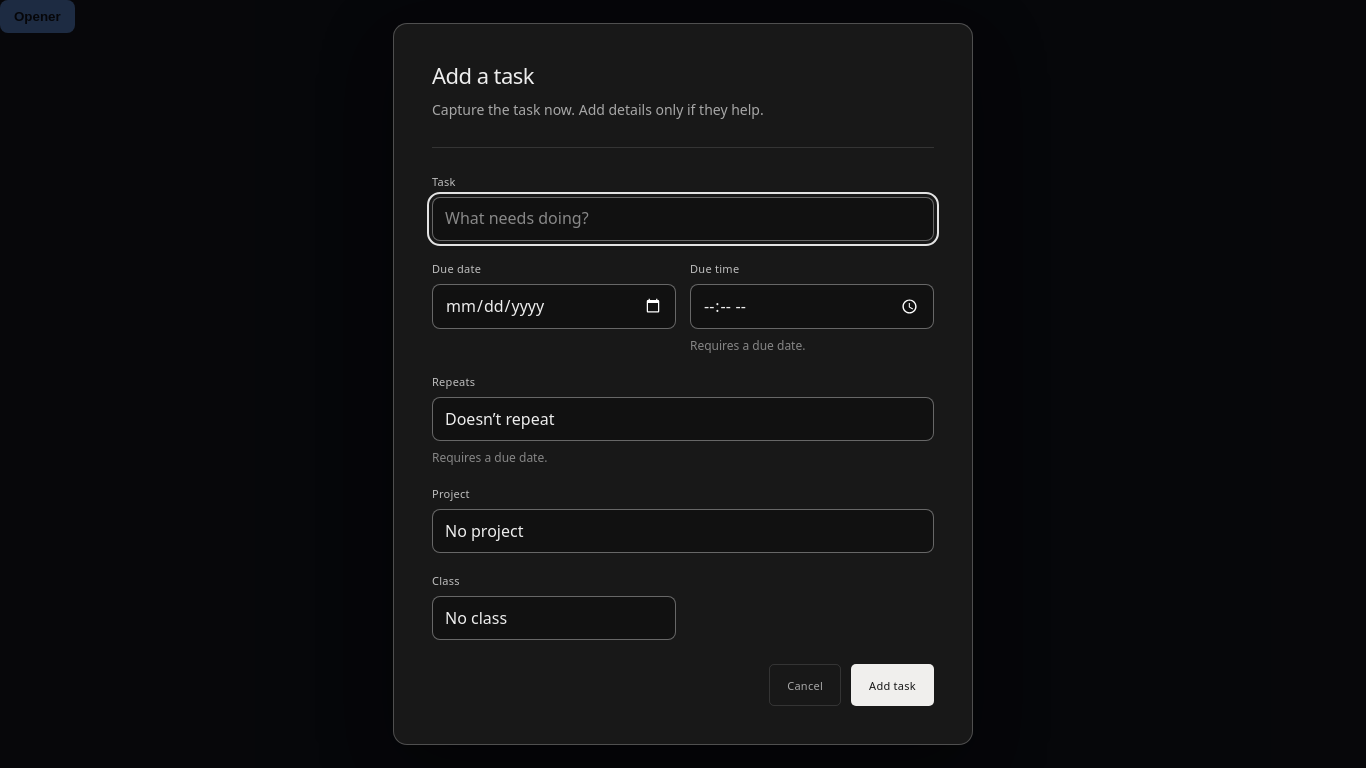
Test: TodoFormDialog repeat rule › reveals the interval and end date only once a frequency is chosen
Expected: the field labelled "Every" is not shown
Select "Weekly" in the dropdown labelled "Repeats" at (683, 419), box top-left (432, 397), bottom-right (934, 441)
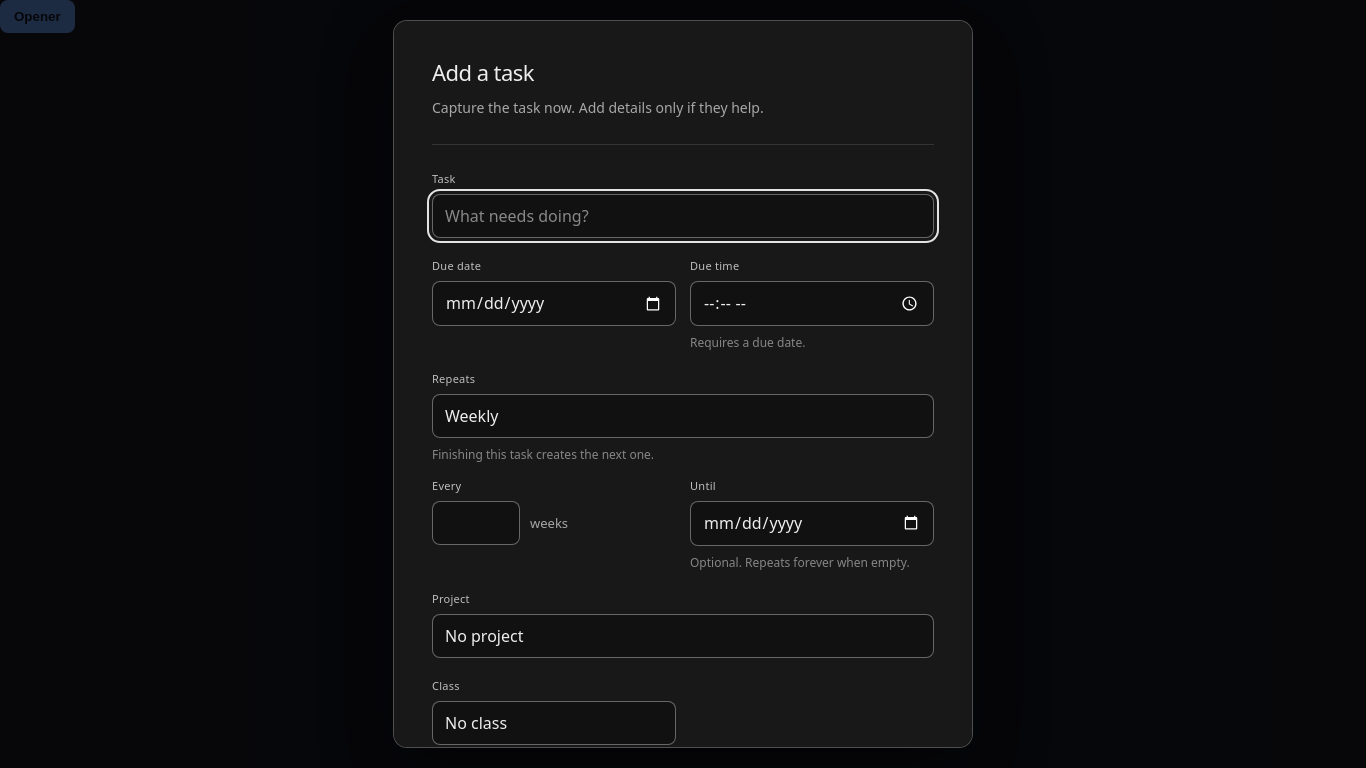
Expected: the number field labelled "Every" is shown, top-left (432, 501), bottom-right (520, 545)
Expected: the text "weeks" is shown, top-left (530, 514), bottom-right (568, 532)
Select "Monthly" in the dropdown labelled "Repeats" at (683, 416), box top-left (432, 394), bottom-right (934, 438)
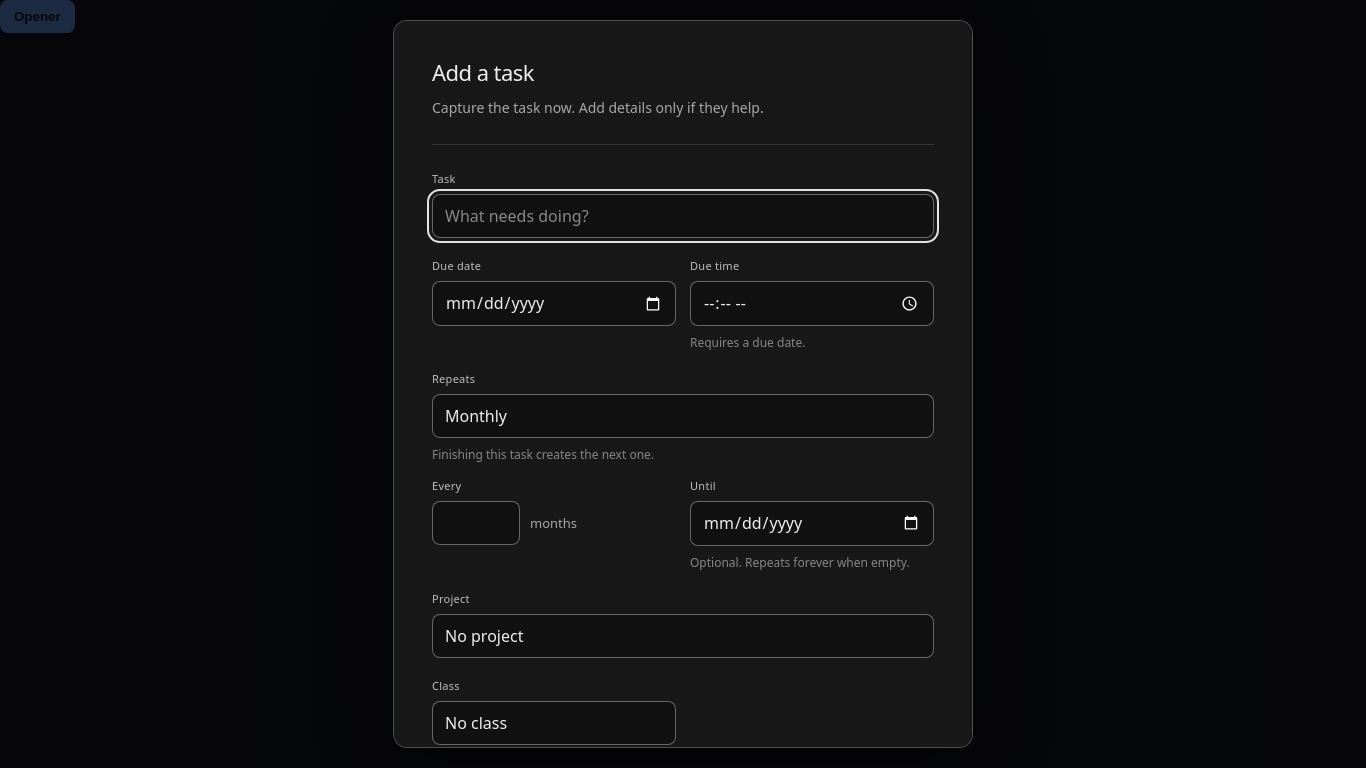
Expected: the text "months" is shown, top-left (530, 514), bottom-right (577, 532)
